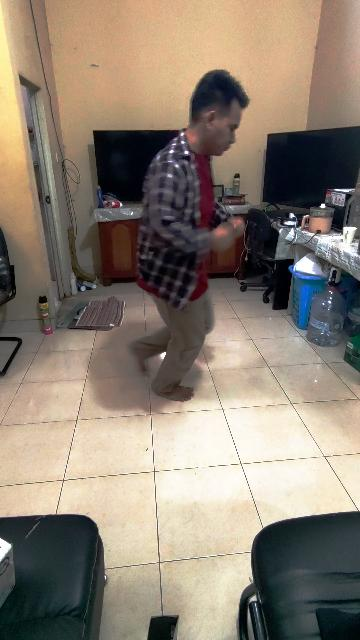berlari: (120, 70, 248, 408)
